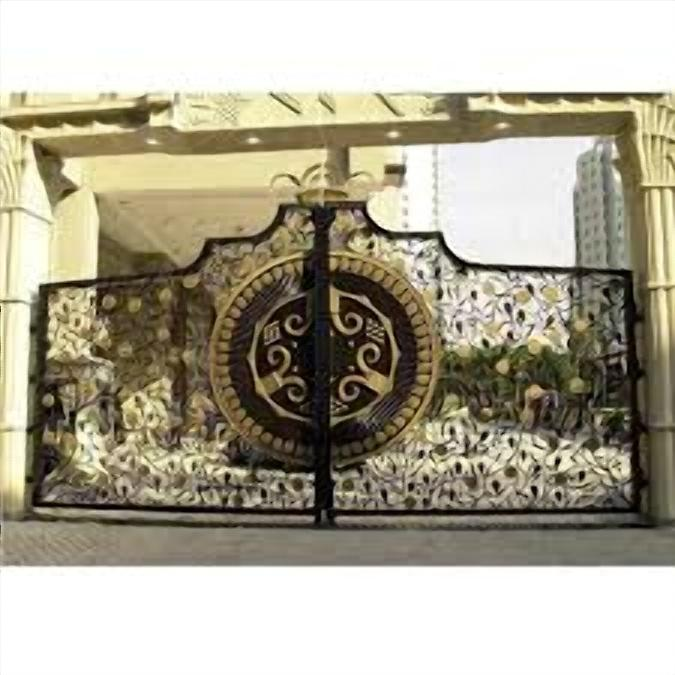Gate: (31, 163, 651, 530)
